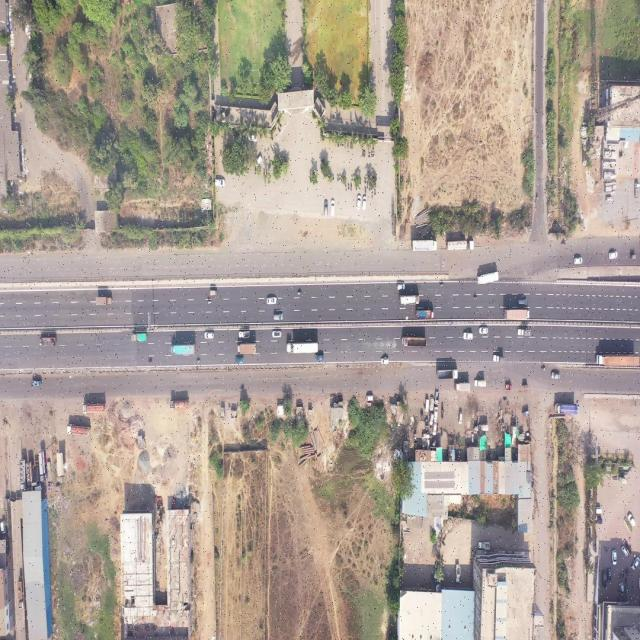3W: (521, 408, 530, 417), (210, 288, 218, 297), (630, 252, 637, 261), (505, 383, 512, 391), (521, 383, 529, 388)
Cars: (627, 510, 636, 529), (620, 544, 629, 559), (247, 132, 258, 144), (610, 548, 618, 564), (273, 312, 285, 322), (395, 282, 407, 292), (631, 557, 640, 570), (550, 370, 561, 380), (266, 296, 277, 306), (214, 178, 226, 187), (516, 297, 528, 306), (462, 331, 474, 340), (98, 296, 108, 306), (204, 329, 214, 339), (608, 250, 618, 260), (255, 153, 262, 167), (602, 570, 607, 589), (323, 199, 328, 217), (330, 198, 335, 216), (478, 326, 488, 335), (574, 255, 583, 265), (272, 329, 282, 338), (457, 410, 463, 424), (356, 194, 361, 210), (429, 395, 434, 411), (362, 195, 367, 210), (619, 582, 624, 597), (424, 398, 429, 412), (429, 413, 434, 426), (434, 405, 438, 421), (315, 354, 324, 361), (235, 357, 244, 364), (381, 357, 389, 364)
LCV: (455, 561, 462, 584), (478, 539, 492, 550), (492, 354, 506, 364), (517, 327, 531, 337), (238, 328, 250, 339), (31, 378, 42, 388), (474, 379, 487, 387)
M2W: (147, 356, 153, 366), (296, 289, 302, 296), (540, 364, 546, 371), (206, 299, 212, 305), (363, 175, 366, 185), (265, 167, 268, 176), (351, 174, 354, 182), (440, 282, 444, 288), (346, 141, 349, 148), (337, 172, 339, 182), (348, 181, 350, 191), (371, 190, 373, 200), (473, 296, 478, 300), (364, 148, 366, 157), (372, 149, 374, 158), (368, 150, 370, 159), (340, 174, 342, 183), (197, 358, 200, 364), (332, 173, 334, 181), (342, 141, 344, 148), (345, 185, 347, 192), (350, 184, 352, 191)
MAV: (594, 352, 640, 367), (286, 341, 318, 354), (446, 239, 475, 252)
Truck: (66, 421, 91, 436), (411, 239, 438, 252), (476, 271, 499, 286), (553, 402, 579, 415), (81, 402, 106, 415), (503, 308, 530, 320), (170, 342, 197, 354), (127, 333, 155, 344), (400, 338, 428, 348), (436, 369, 458, 380), (236, 342, 256, 354), (170, 398, 189, 410), (398, 295, 420, 305), (38, 336, 56, 348), (454, 381, 471, 392), (417, 310, 435, 320)
